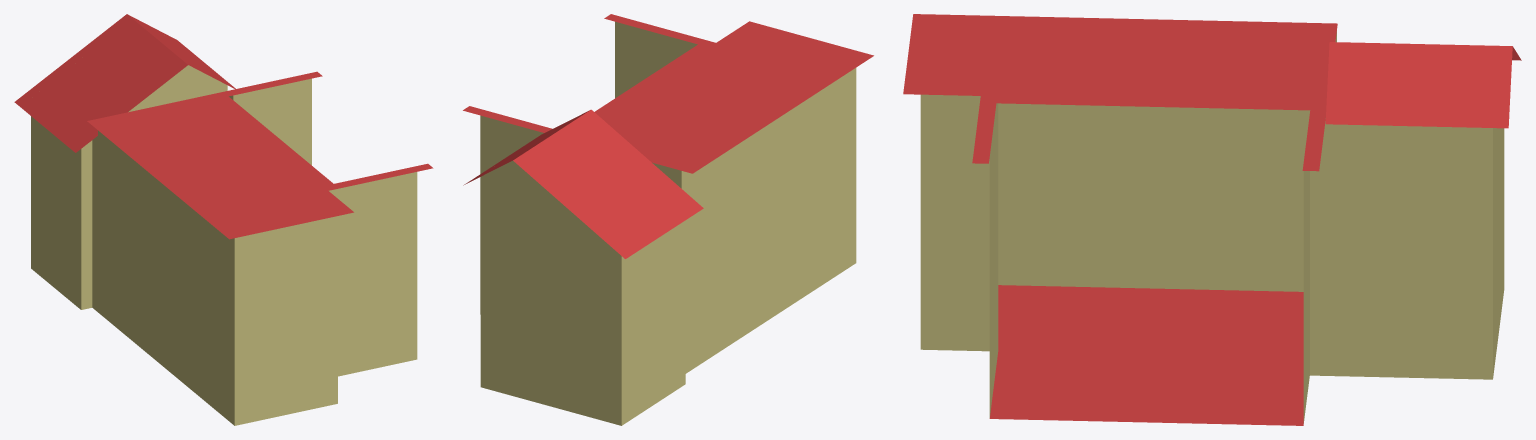
3 views of the same model, side by side, from view 1: azimuth 30°, elevation 25°; view 2: azimuth 150°, elevation 25°; view 3: azimuth 270°, elevation 25° (orthographic). The views are drawn at different scales.
Size of the model in its own units: 11.2 by 18.62 by 10.25.
